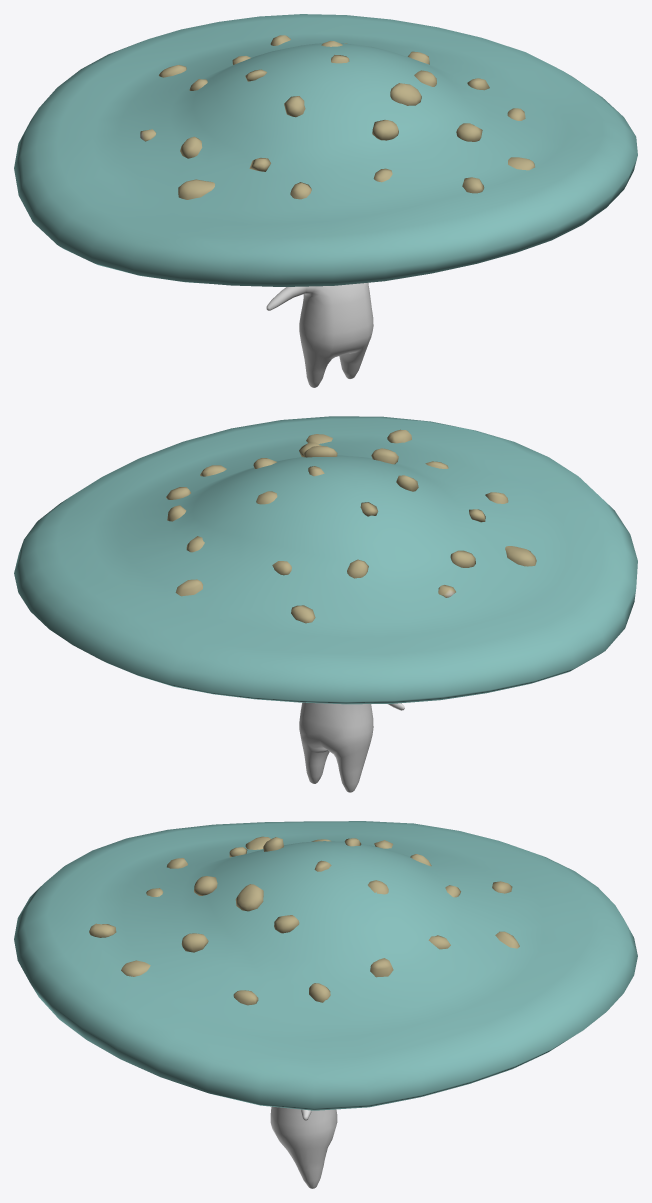
The model's file is SM_Geeh_low.fbx.
The picture shows the model from 3 angles, top to bottom: view 1: azimuth 30°, elevation 25°; view 2: azimuth 150°, elevation 25°; view 3: azimuth 270°, elevation 25°; orthographic projection.
Visible parts, largest first — view 1: Geeh_Hat_low, Geeh_Body_low, Geeh_Rocks_low; view 2: Geeh_Hat_low, Geeh_Rocks_low, Geeh_Body_low; view 3: Geeh_Hat_low, Geeh_Rocks_low, Geeh_Body_low.
Part boxes in pixels (x1=…): Geeh_Hat_low: x1=14, y1=14, x2=637, y2=286; Geeh_Body_low: x1=266, y1=282, x2=373, y2=387; Geeh_Rocks_low: x1=140, y1=35, x2=534, y2=199; Geeh_Hat_low: x1=14, y1=416, x2=637, y2=704; Geeh_Rocks_low: x1=166, y1=429, x2=536, y2=623; Geeh_Body_low: x1=299, y1=702, x2=404, y2=792; Geeh_Hat_low: x1=14, y1=821, x2=637, y2=1110; Geeh_Rocks_low: x1=89, y1=836, x2=519, y2=1005; Geeh_Body_low: x1=270, y1=1106, x2=337, y2=1188.
Size of the model in its own units: 106 by 59.3 by 104.
